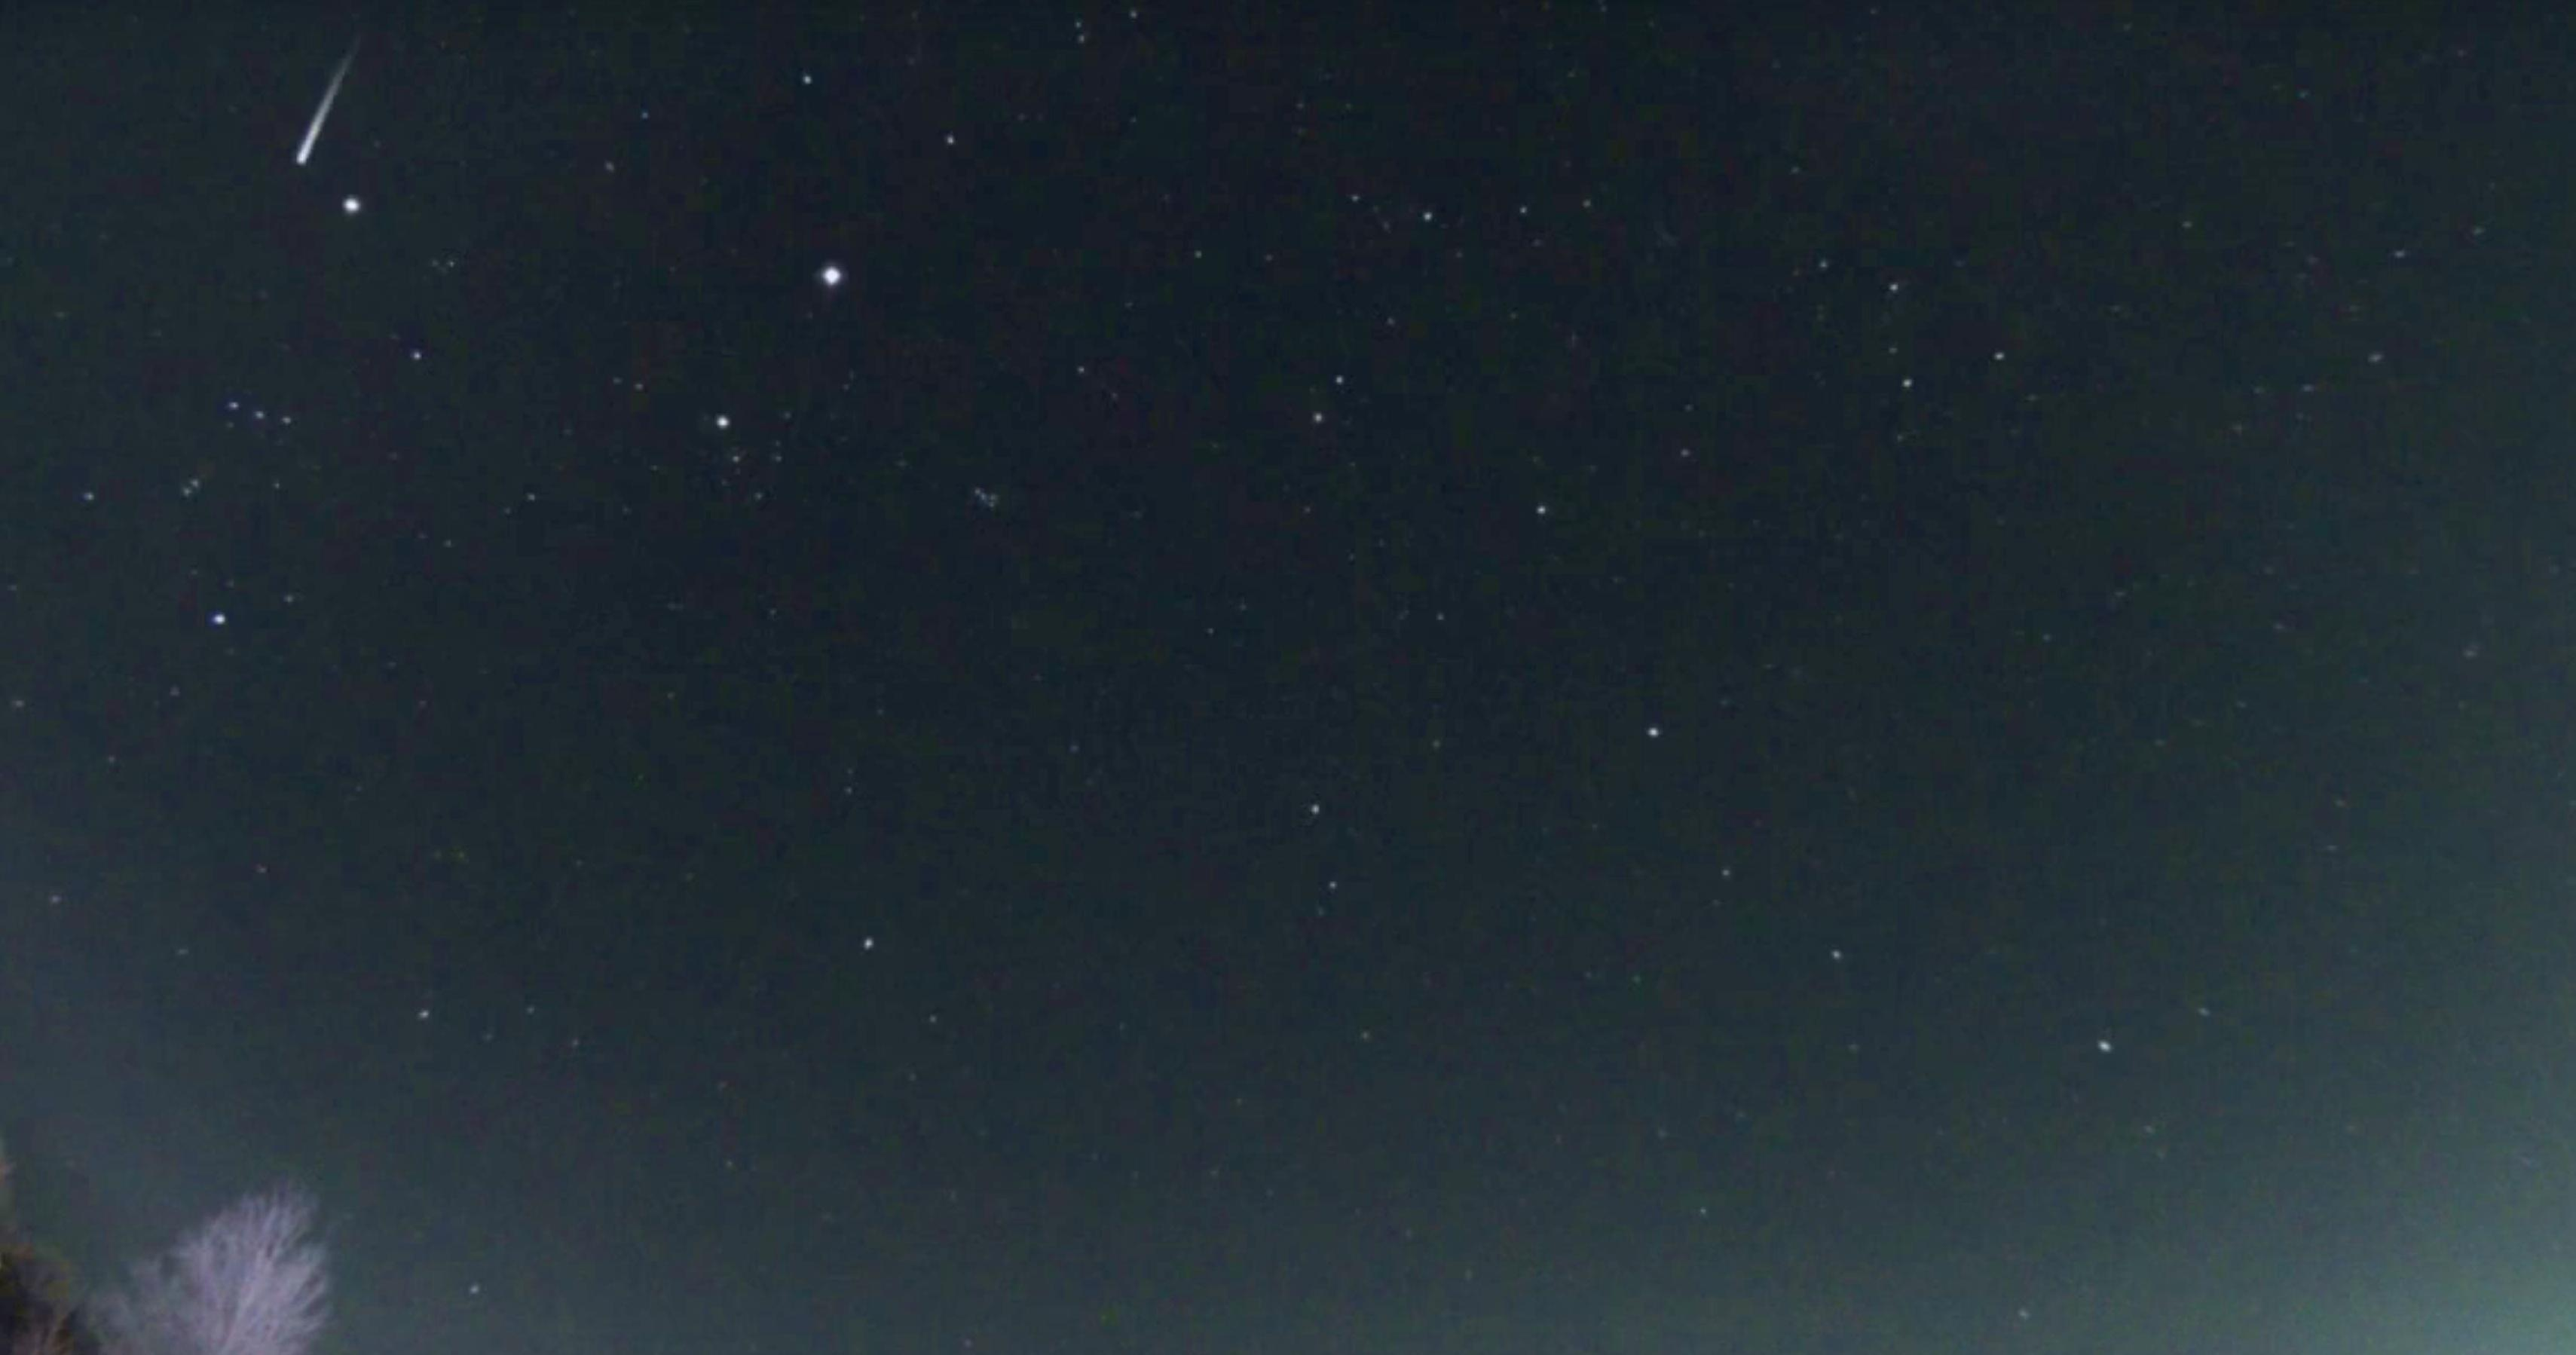meteorite: (264, 5, 394, 205)
